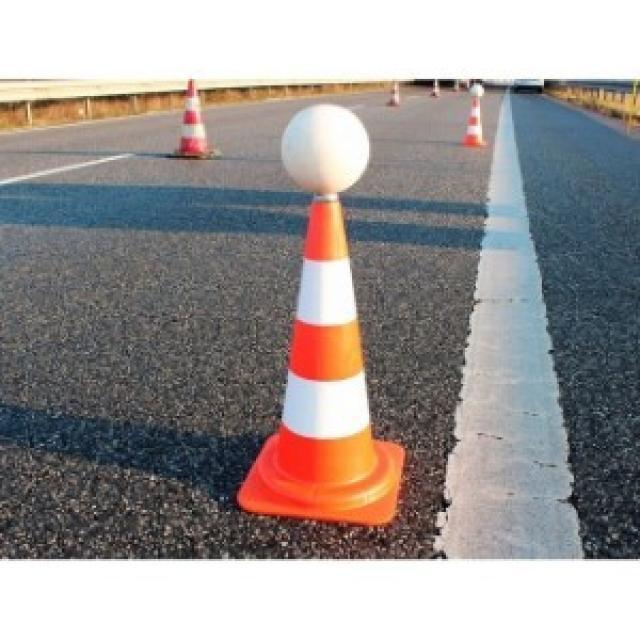traffic cone: (235, 195, 405, 526), (167, 78, 217, 160), (460, 96, 489, 148), (387, 84, 401, 107)
